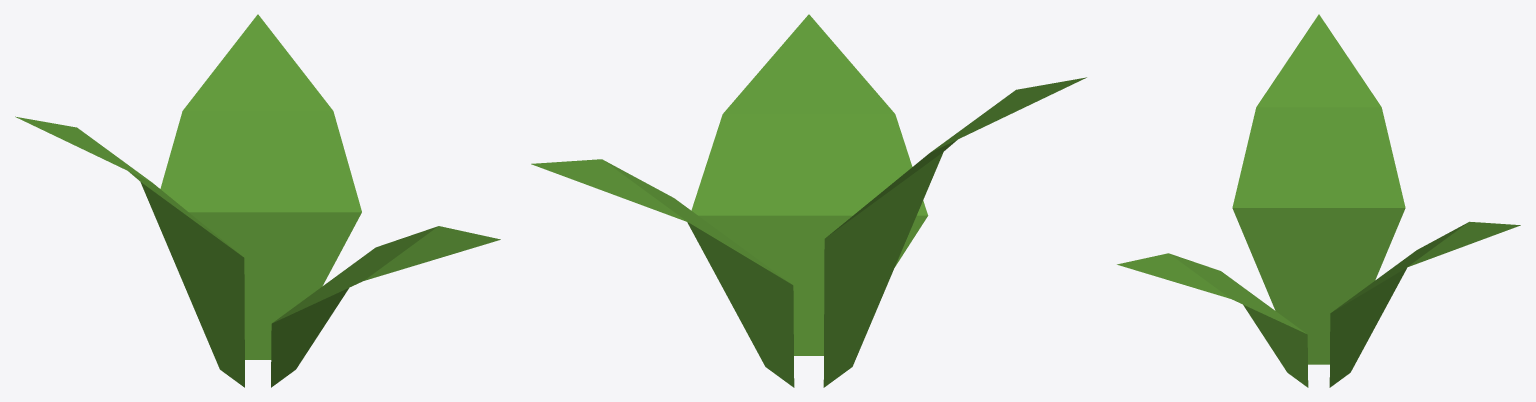
Rendered from bush_cone.glb.
The picture shows the model from 3 angles, left to right: view 1: azimuth 30°, elevation 25°; view 2: azimuth 150°, elevation 25°; view 3: azimuth 270°, elevation 25°; orthographic projection. The views are drawn at different scales.
Visible parts, largest first — view 1: plant_bushTriangle; view 2: plant_bushTriangle; view 3: plant_bushTriangle.
Boxes of the visible parts, bbox=[...] form: plant_bushTriangle: bbox=[15, 14, 500, 387]; plant_bushTriangle: bbox=[531, 14, 1086, 387]; plant_bushTriangle: bbox=[1117, 14, 1520, 387].
Size of the model in its own units: 1.85 by 1.5 by 2.1.
